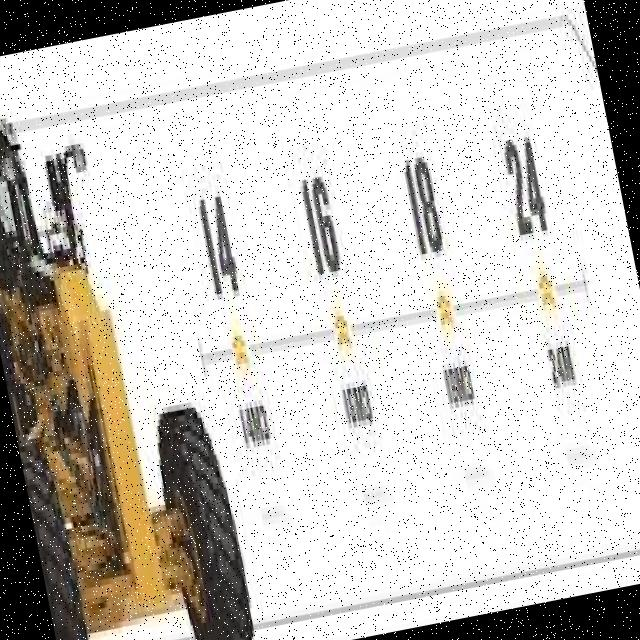Grader: (0, 73, 263, 640)
